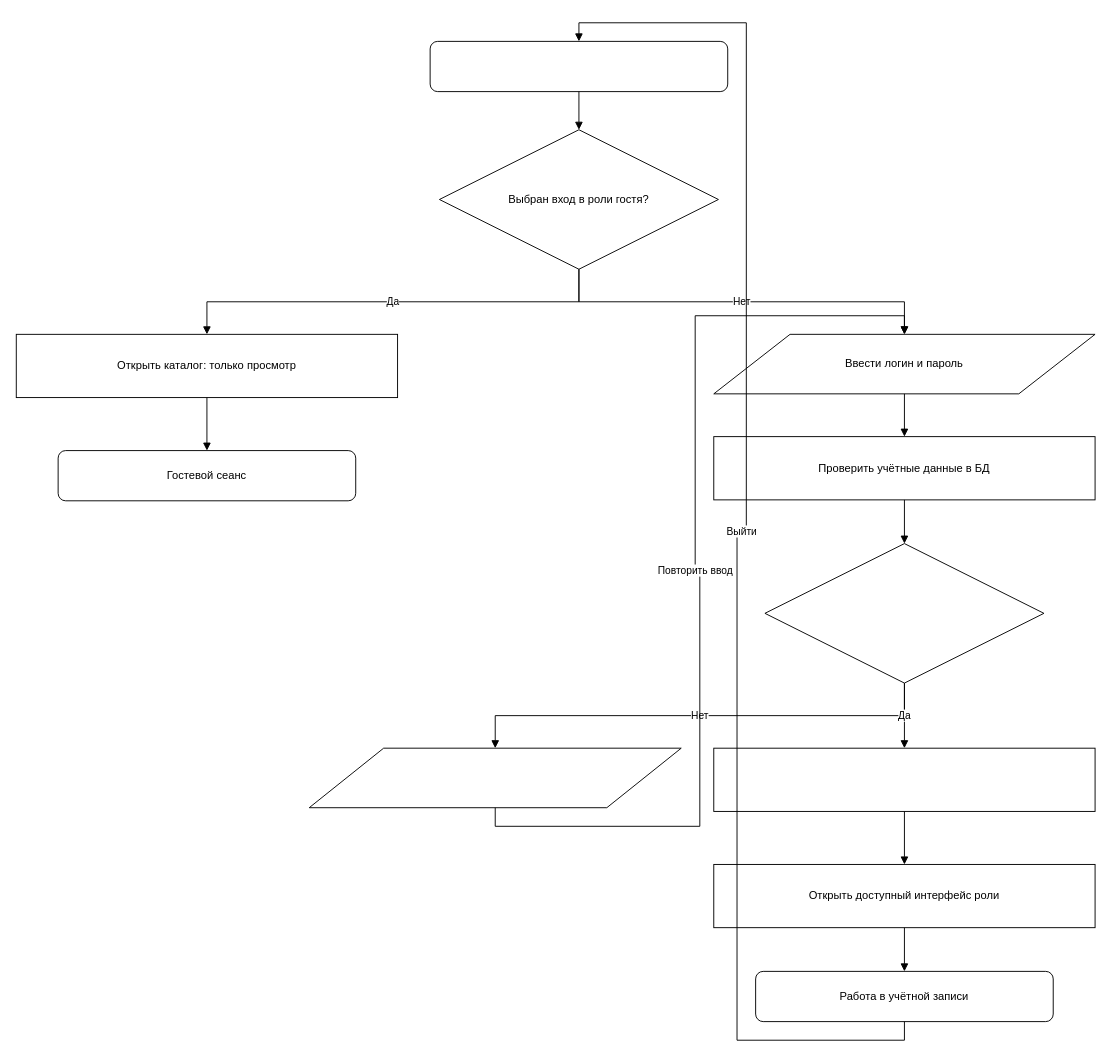
This 1111x1064 diagram has some shape labels left out. The box of each missing label's shape, as (x1, y1, x2, y2) in pixels:
Данные верны?: (764, 543, 1044, 683)
Окно входа: (429, 40, 728, 92)
Определить роль и показать ФИО пользователя: (713, 747, 1095, 811)
Показать: неверный логин или пароль: (308, 747, 681, 808)
